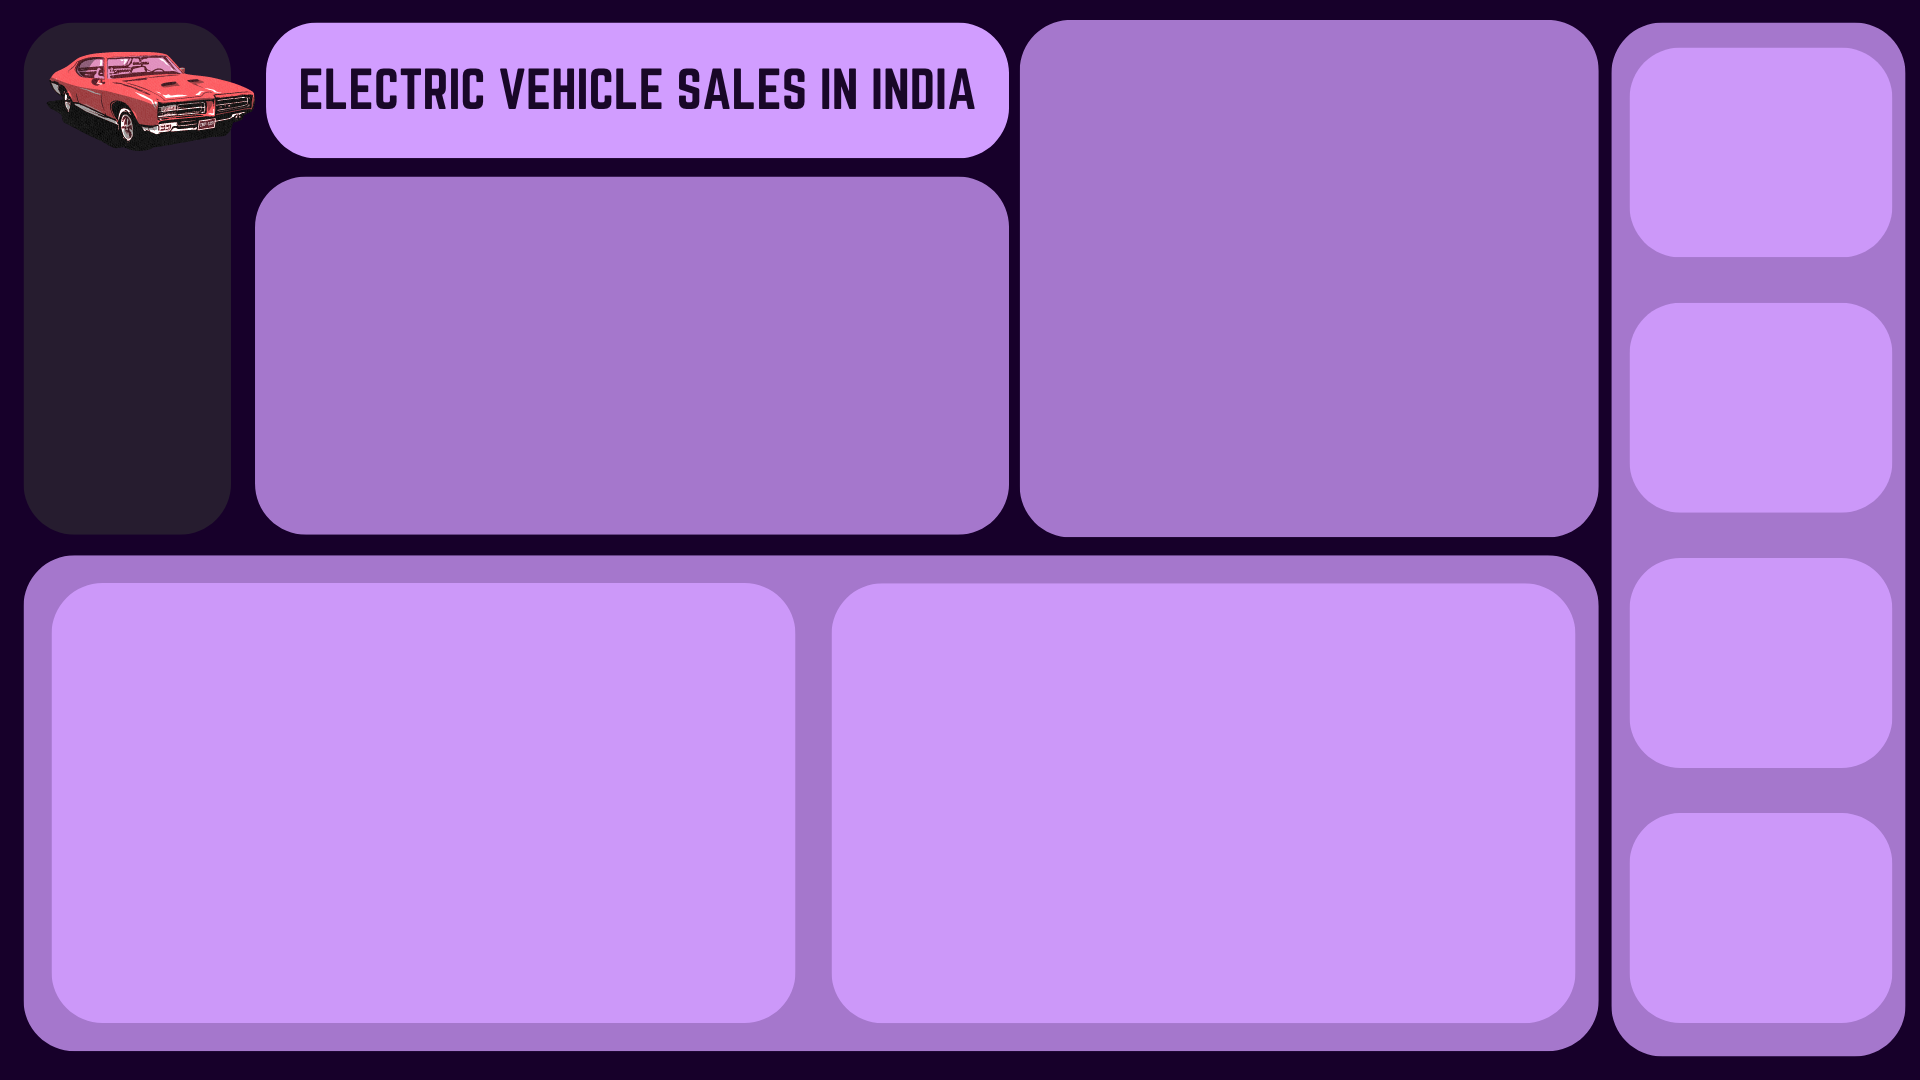

The dashboard page shown, as its layout file describes it:
{"tool":"powerbi","page":{"name":"Page 4","canvas":[320,240],"ordinal":1},"visuals":[{"type":"cardVisual","fields":{"Data":["Min(Calendar Table.Year)"]},"box":[0,73,320,167],"z":0},{"type":"image","box":[142,0,178,178],"z":1000}]}

Visuals, with their boxes on the page's 320x240 design canvas (x1, y1, x2, y2). These are canvas units, not pixel positions in the 1920x1080 screenshot, which may show the page scaled, cropped or inside an application window:
cardVisual - Min(Calendar Table.Year): (x1=0, y1=73, x2=320, y2=240)
image: (x1=142, y1=0, x2=320, y2=178)
